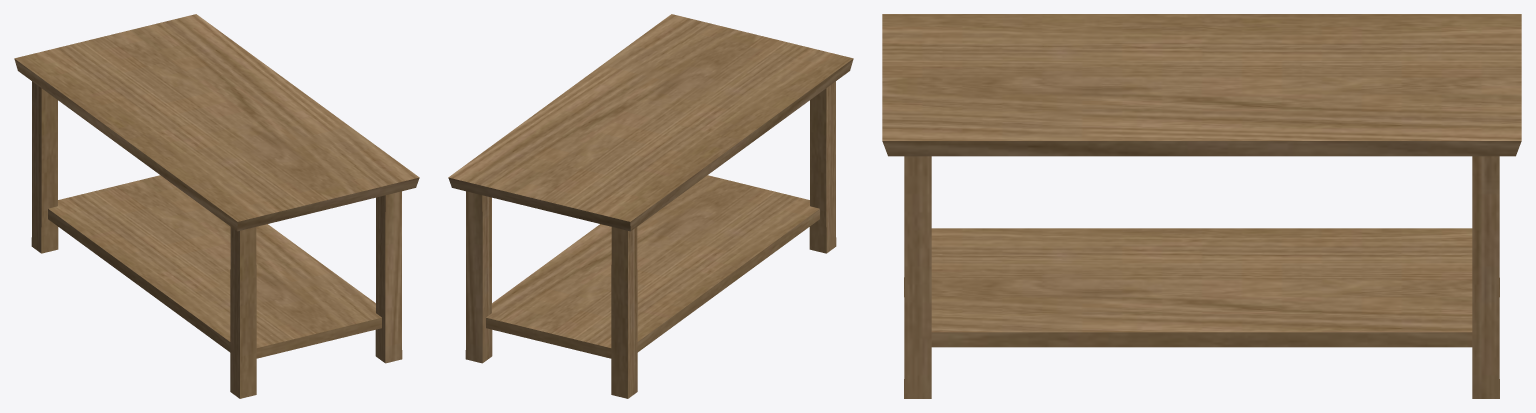
File: table1.fbx
3 renders of one model, left to right at view 1: azimuth 30°, elevation 25°; view 2: azimuth 150°, elevation 25°; view 3: azimuth 270°, elevation 25°, orthographic. The views are drawn at different scales.
Visible parts, largest first — view 1: Table_01; view 2: Table_01; view 3: Table_01.
Boxes of the visible parts, x1,y1,x2,y2 form: Table_01: [14, 14, 419, 398]; Table_01: [448, 14, 853, 398]; Table_01: [882, 14, 1521, 398].
Bounding box in the file's own units: 67.06 × 65.13 × 143.
